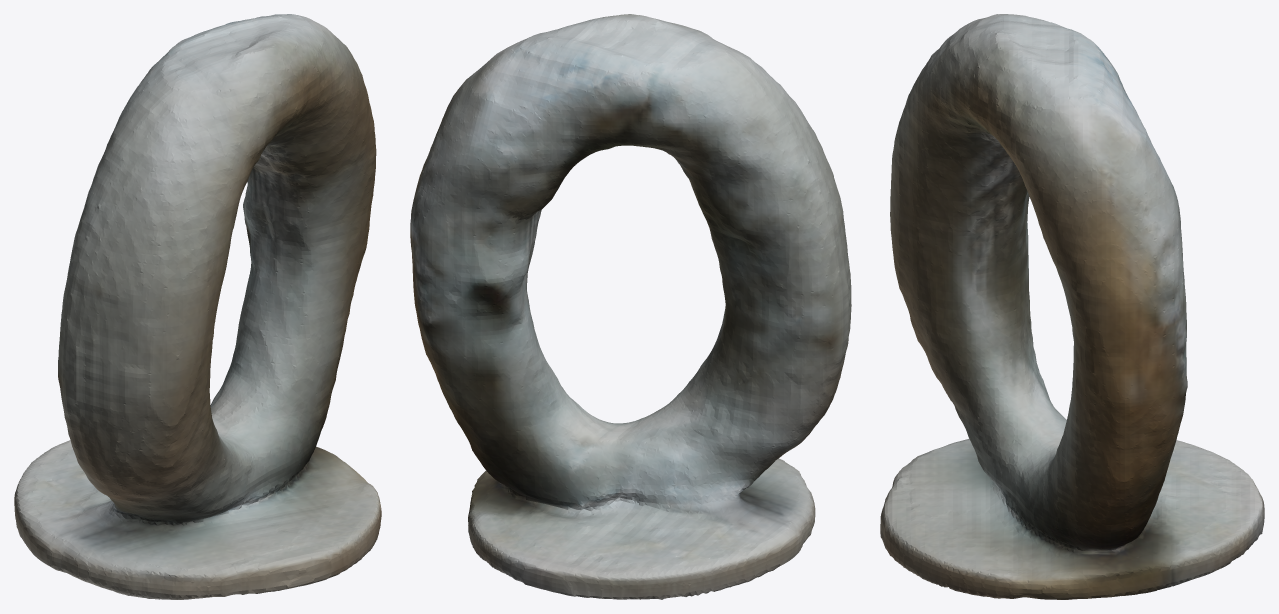
The model's file is full.glb.
3 views of the same model, side by side, from view 1: azimuth 30°, elevation 25°; view 2: azimuth 150°, elevation 25°; view 3: azimuth 270°, elevation 25° (orthographic). The views are drawn at different scales.
Parts seen in each view (by area): view 1: world; view 2: world; view 3: world.
Part boxes in pixels (x1=…): world: x1=14, y1=14, x2=381, y2=599; world: x1=410, y1=14, x2=851, y2=599; world: x1=880, y1=14, x2=1264, y2=599.
Size of the model in its own units: 1.53 by 1.97 by 1.36.
